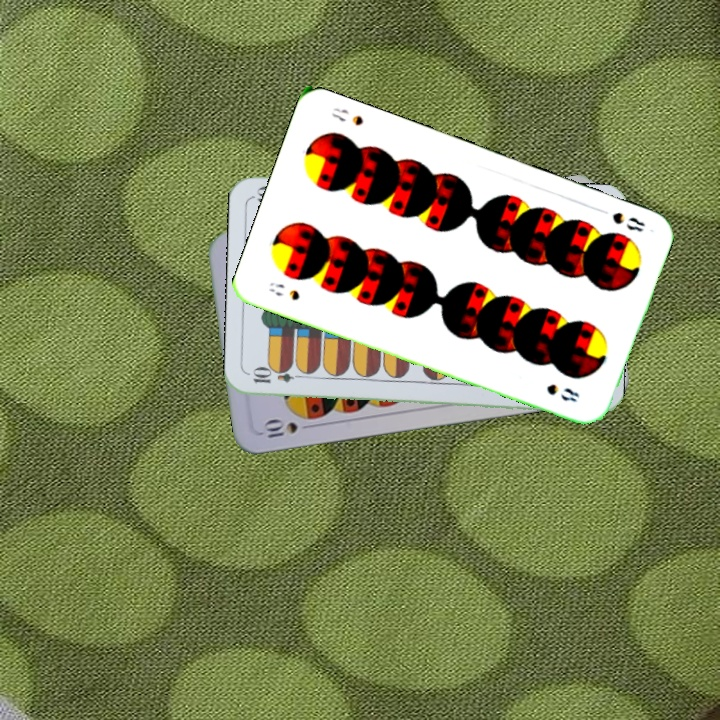E10: (249, 367, 308, 386)
S10: (258, 416, 300, 441)
S8: (608, 208, 647, 235), (265, 278, 303, 303)
